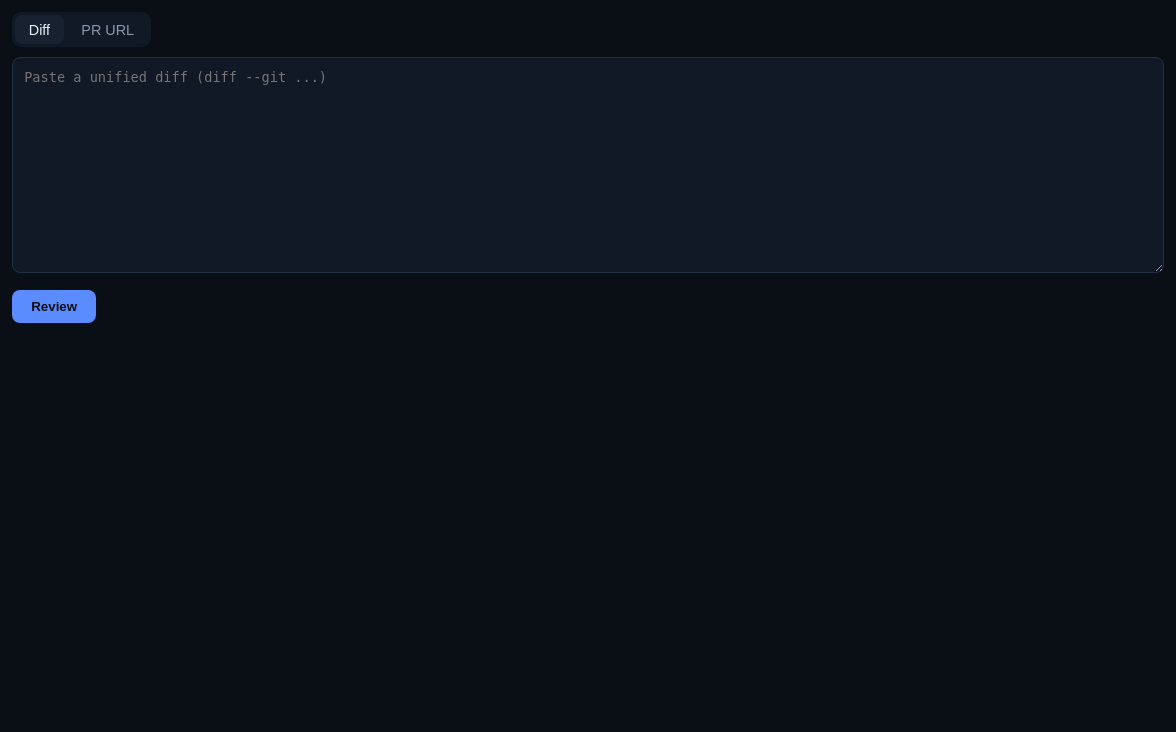
Test case: shows the trivial notice for a trivial diff
Type "d" into the text box labelled "diff".
click(588, 165); type("d")  # box [12,57,1164,273]
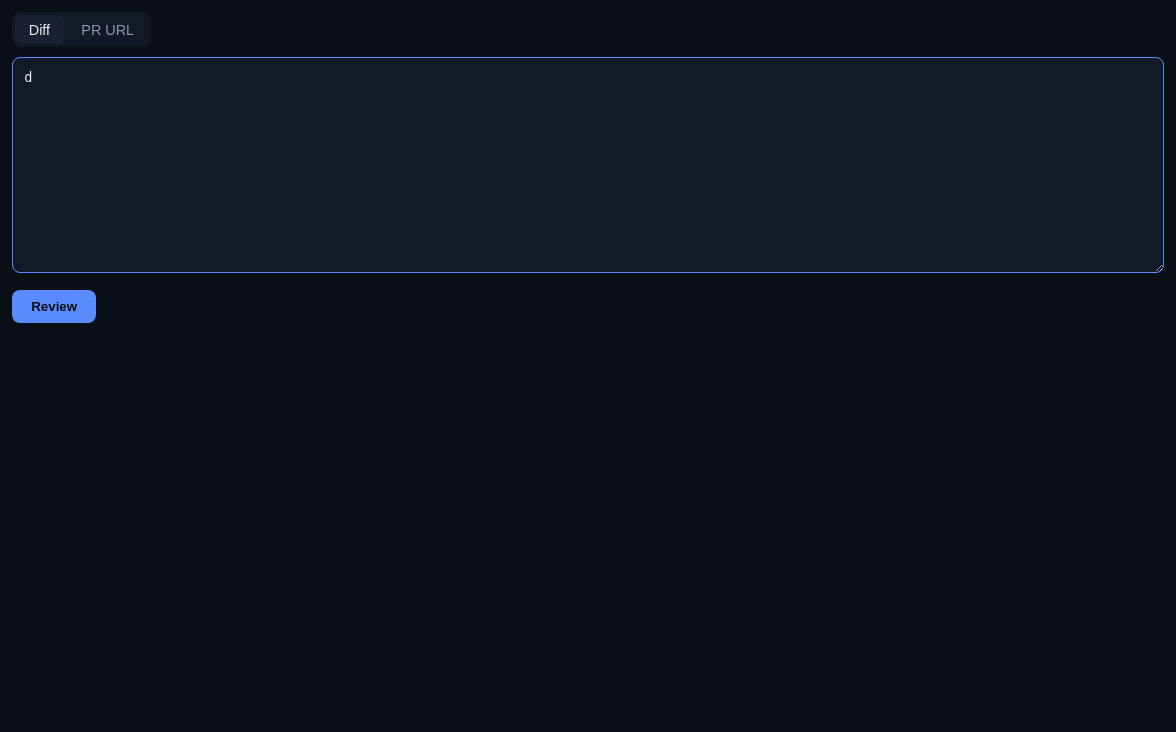
Click the button "Review".
click(54, 306)  # box [12,290,96,323]
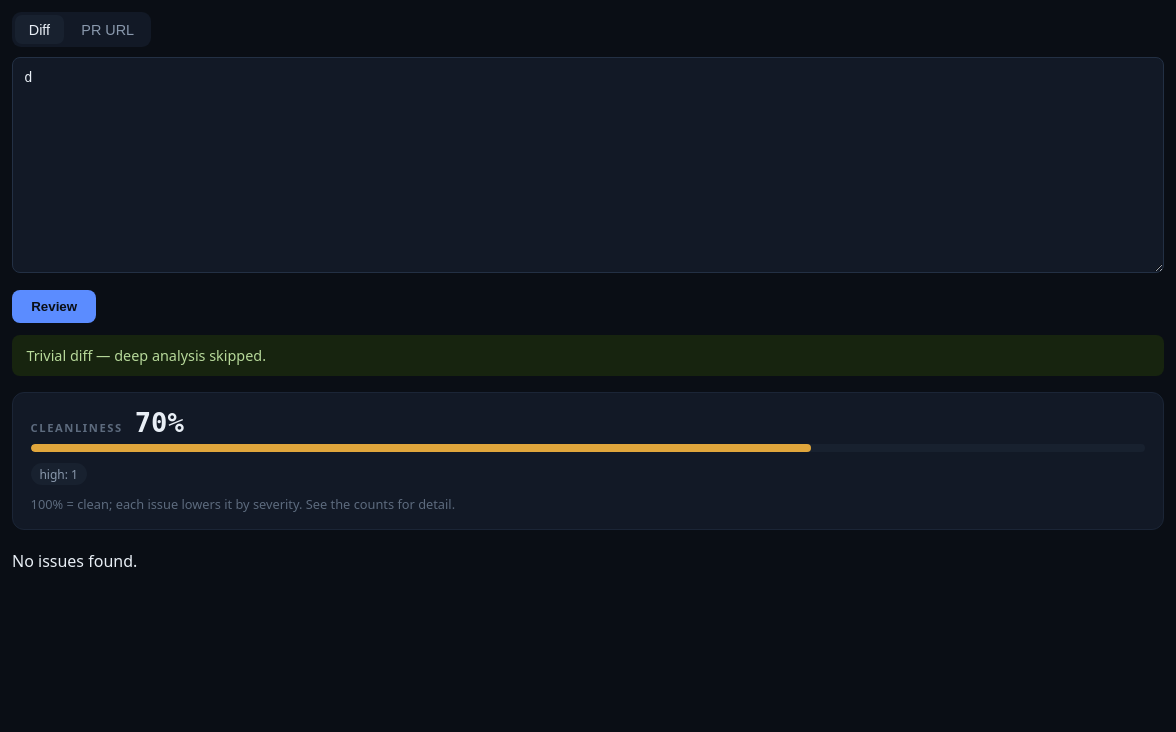
Expected: the text "Trivial diff — deep analysis skipped." is shown, [12,335,1164,376]
